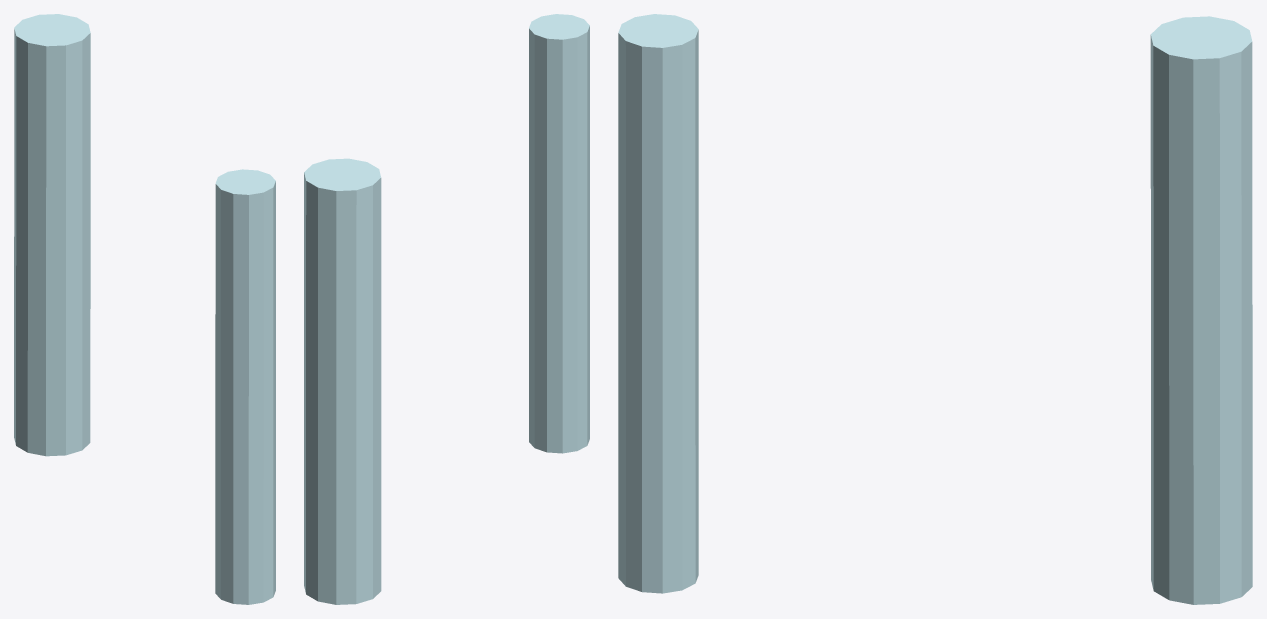
The model's file is industrial_06397_RauxLink1Visible_visual_visual_visual_visual_visual_visual_vis_2.dae.
3 views of the same model, side by side, from view 1: azimuth 30°, elevation 25°; view 2: azimuth 150°, elevation 25°; view 3: azimuth 270°, elevation 25° (orthographic). The views are drawn at different scales.
Visible parts, largest first — view 1: node; view 2: node; view 3: node.
Part boxes in pixels (<box>): node: <box>14,14,275,604</box>; node: <box>304,14,589,604</box>; node: <box>618,14,1252,604</box>.
Bounding box in the file's own units: 0.00629 × 0.0352 × 0.0371.
